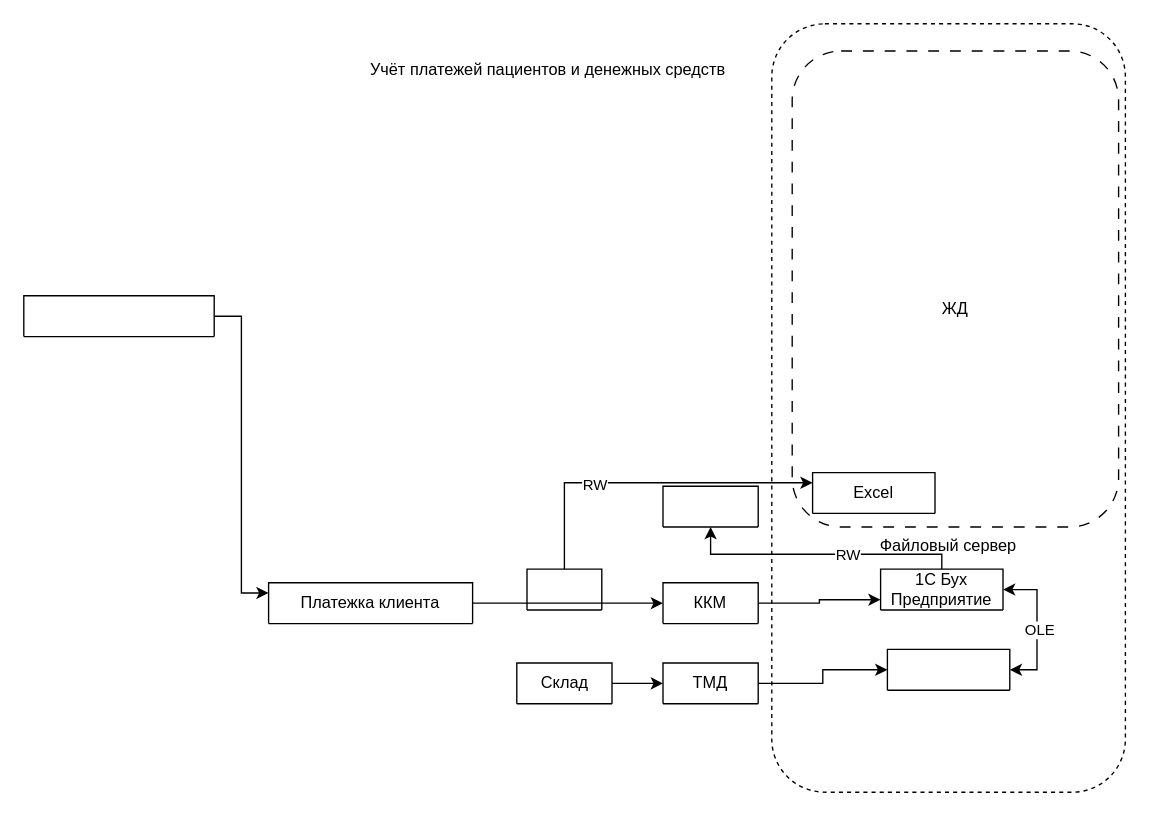
The diagram is 1149 pixels wide and 816 high, and some of its shapes have lost their labels. Each missing label, with the centre of its shape:
"1С Торг и склад" goes at (x=948, y=669).
"Бухгалтер" goes at (x=710, y=506).
"Кассир" goes at (x=564, y=589).
"Клиент" goes at (x=118, y=315).
